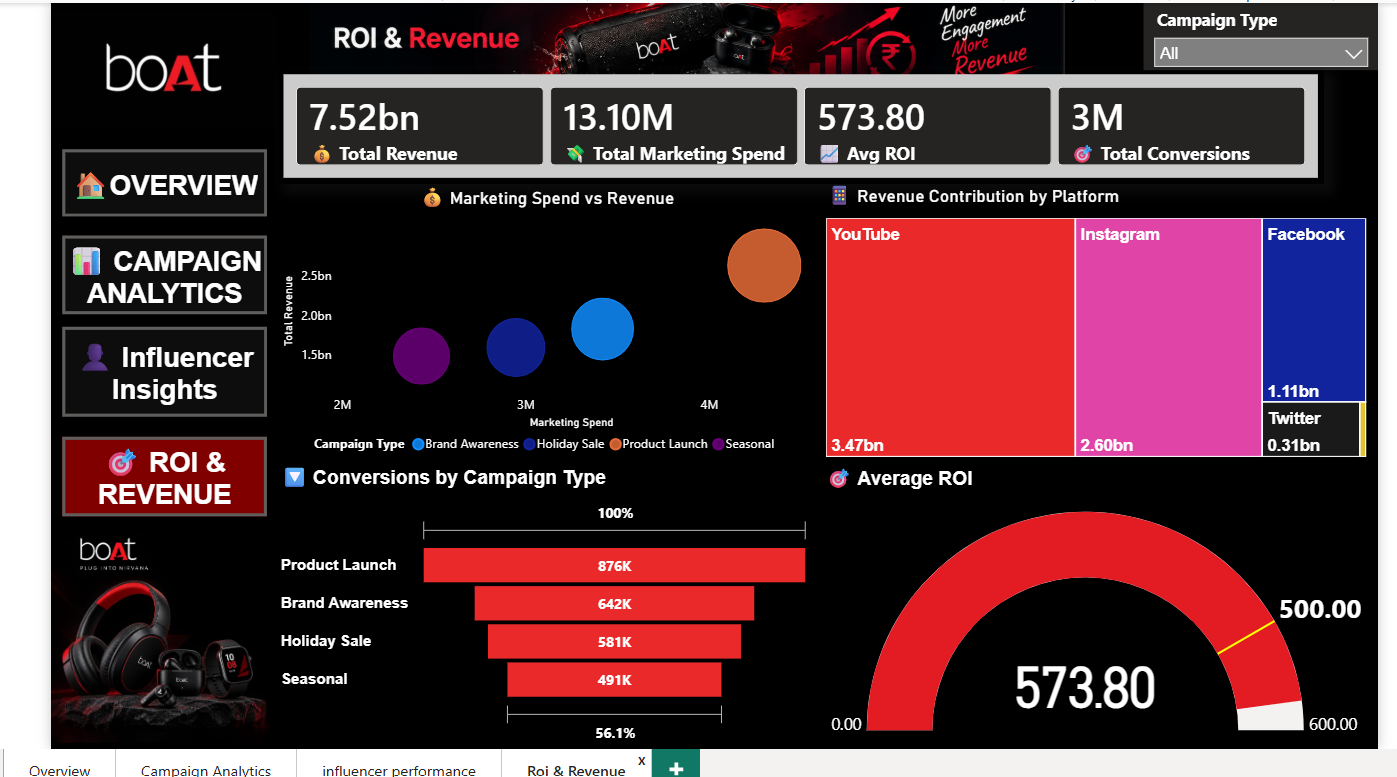

What the dashboard file says about the page in this screenshot:
{"tool":"powerbi","page":{"name":"Roi & Revenue","canvas":[1280,720],"ordinal":3},"visuals":[{"type":"image","box":[220,0,788.6,78.6],"z":0},{"type":"image","box":[0,0,219.6,129.1],"z":1000},{"type":"actionButton","box":[10.9,141.2,197.9,65.1],"z":2000},{"type":"actionButton","box":[10.9,224.4,197.9,76],"z":3000},{"type":"actionButton","box":[10.9,312.5,197.9,86.9],"z":4000},{"type":"actionButton","box":[11,418.5,197.6,76.8],"z":5000},{"type":"cardVisual","fields":{"Data":["Fact_CampaignPerformance.Total Revenue","Fact_CampaignPerformance.Total Marketing Spend","Fact_CampaignPerformance.Avg ROI","Fact_CampaignPerformance.Total Conversions"]},"box":[219.6,64.5,1008.6,110],"z":6000},{"type":"scatterChart","title":"💰 Marketing Spend vs Revenue","fields":{"X":["Fact_CampaignPerformance.Total Marketing Spend"],"Y":["Fact_CampaignPerformance.Total Revenue"],"Size":["Fact_CampaignPerformance.Total Revenue"],"Series":["Dim_Campaign.Campaign Type"]},"box":[218.2,174.3,520.1,270.3],"z":7000},{"type":"slicer","fields":{"Values":["Dim_Campaign.Campaign Type"]},"box":[1053.9,0,226.4,64.5],"z":8000},{"type":"treemap","title":"📱 Revenue Contribution by Platform","fields":{"Values":["Fact_CampaignPerformance.Total Revenue"],"Group":["Dim_Influencer.Platform"]},"box":[743.7,172.9,531,270.3],"z":9000},{"type":"funnel","title":"🔽 Conversions by Campaign Type","fields":{"Category":["Dim_Campaign.Campaign Type"],"Y":["Fact_CampaignPerformance.Total Conversions"]},"box":[216.8,444.2,521,275.8],"z":10000},{"type":"gauge","title":"🎯 Average ROI","fields":{"Y":["Fact_CampaignPerformance.Avg ROI"]},"box":[743.7,444.6,530,275.8],"z":11000},{"type":"image","box":[0,499.5,211,221],"z":12000}]}

Visuals, with their boxes on the page's 1280x720 design canvas (x1, y1, x2, y2). These are canvas units, not pixel positions in the 1397x777 screenshot, which may show the page scaled, cropped or inside an application window:
image: crop(220, 0, 1009, 79)
image: crop(0, 0, 220, 129)
actionButton: crop(11, 141, 209, 206)
actionButton: crop(11, 224, 209, 300)
actionButton: crop(11, 312, 209, 399)
actionButton: crop(11, 418, 209, 495)
cardVisual - Fact_CampaignPerformance.Total Revenue x Fact_CampaignPerformance.Total Marketing Spend: crop(220, 64, 1228, 174)
"💰 Marketing Spend vs Revenue" scatterChart: crop(218, 174, 738, 445)
slicer - Dim_Campaign.Campaign Type: crop(1054, 0, 1280, 64)
"📱 Revenue Contribution by Platform" treemap: crop(744, 173, 1275, 443)
"🔽 Conversions by Campaign Type" funnel: crop(217, 444, 738, 720)
"🎯 Average ROI" gauge: crop(744, 445, 1274, 720)
image: crop(0, 500, 211, 720)
